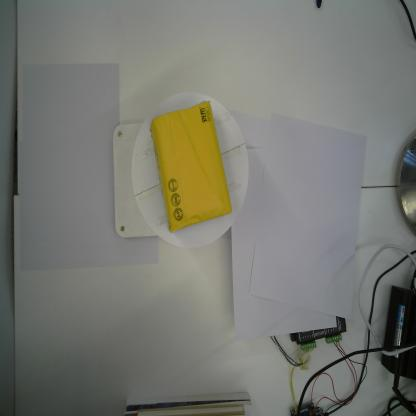Tissue: (151, 99, 231, 234)
